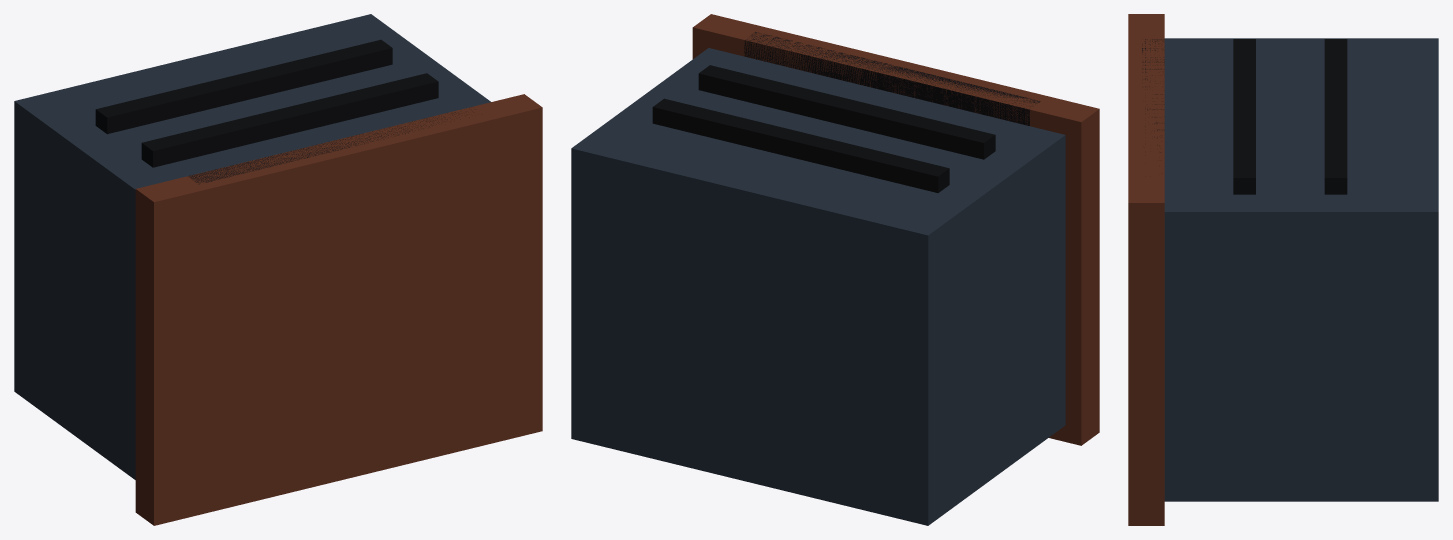
Rendered from ENV_prop_vent.obj.
3 views of the same model, side by side, from view 1: azimuth 30°, elevation 25°; view 2: azimuth 150°, elevation 25°; view 3: azimuth 270°, elevation 25° (orthographic).
Visible parts, largest first — view 1: ENV_prop_vent; view 2: ENV_prop_vent; view 3: ENV_prop_vent.
Boxes of the visible parts, <box> form: ENV_prop_vent: <box>14,14,542,525</box>; ENV_prop_vent: <box>571,14,1099,525</box>; ENV_prop_vent: <box>1128,14,1438,525</box>.
Bounding box in the file's own units: 0.98 × 0.78 × 0.68.
